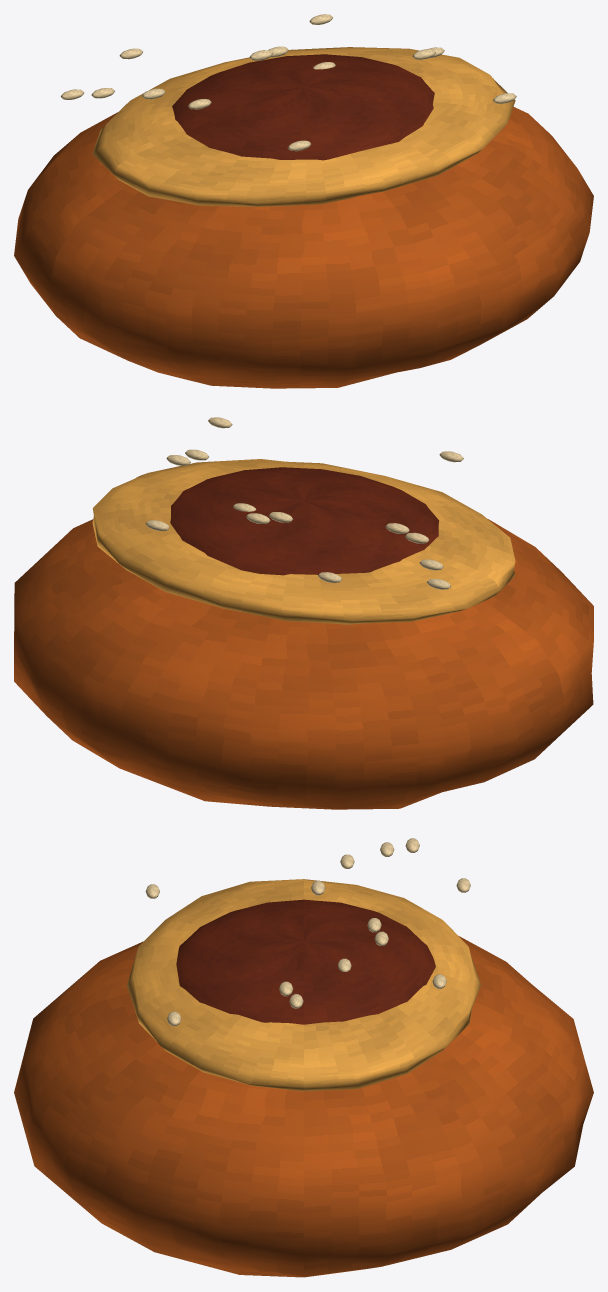
Rendered from bread_curry.glb.
3 views of the same model, one above another, from view 1: azimuth 30°, elevation 25°; view 2: azimuth 150°, elevation 25°; view 3: azimuth 270°, elevation 25° (orthographic). The views are drawn at different scales.
Parts seen in each view (by area): view 1: ふっくらした生地.001, 具材を載せるくぼみ.001, カレーの中身; view 2: ふっくらした生地.001, 具材を載せるくぼみ.001, カレーの中身; view 3: ふっくらした生地.001, 具材を載せるくぼみ.001, カレーの中身.
Boxes of the visible parts, x1,y1,x2,y2 form: ふっくらした生地.001: (14, 106, 593, 388); 具材を載せるくぼみ.001: (92, 47, 515, 206); カレーの中身: (172, 54, 434, 160); ふっくらした生地.001: (14, 519, 593, 809); 具材を載せるくぼみ.001: (92, 459, 515, 624); カレーの中身: (170, 467, 439, 575); ふっくらした生地.001: (14, 936, 593, 1277); 具材を載せるくぼみ.001: (127, 879, 480, 1091); カレーの中身: (176, 899, 435, 1024).
Bounding box in the file's own units: 0.7929 × 0.3994 × 0.72.
Materials: 4 (4 with a texture image).
